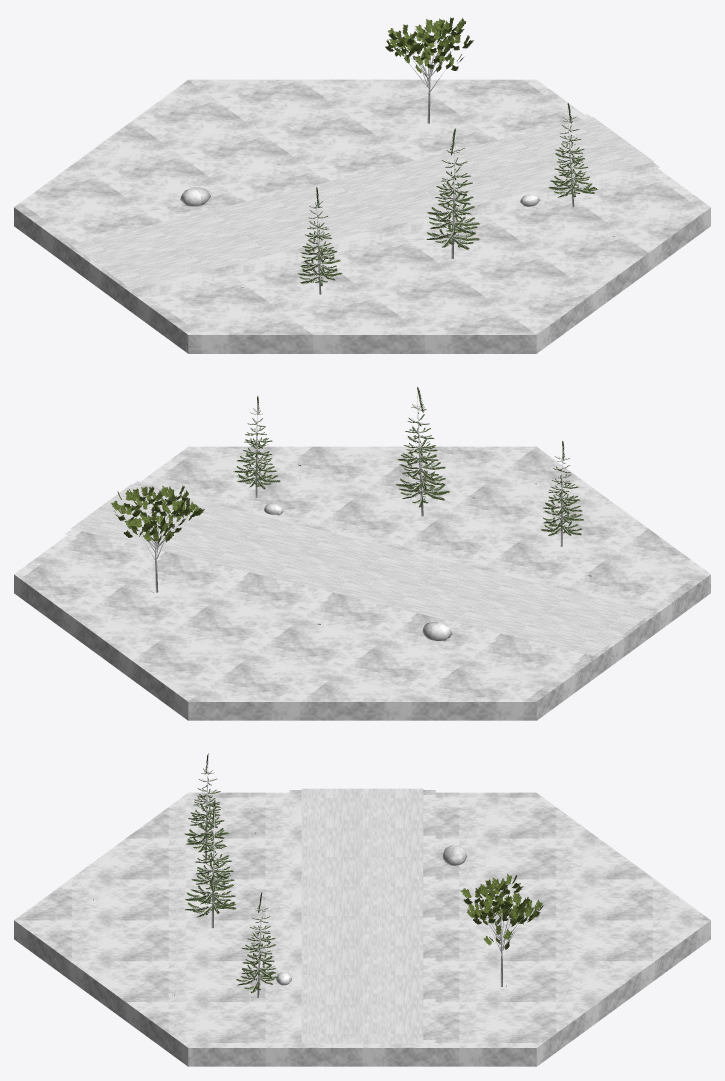
Rendered from rio_recto.glb.
The picture shows the model from 3 angles, top to bottom: view 1: azimuth 30°, elevation 25°; view 2: azimuth 150°, elevation 25°; view 3: azimuth 270°, elevation 25°; orthographic projection.
Visible parts, largest first — view 1: rio_recto.004; view 2: rio_recto.004; view 3: rio_recto.004.
Boxes of the visible parts, x1,y1,x2,y2 form: rio_recto.004: (14,17,710,353); rio_recto.004: (14,387,710,720); rio_recto.004: (14,753,710,1066).
Bounding box in the file's own units: 3.46 × 0.9553 × 4.
Materials: 6 (6 with a texture image).
